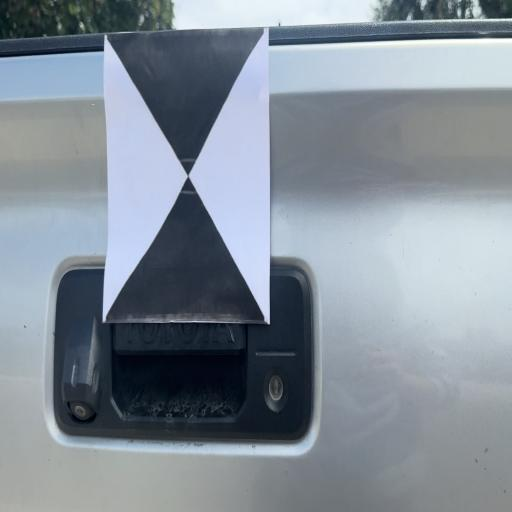target: (106, 35, 270, 321)
